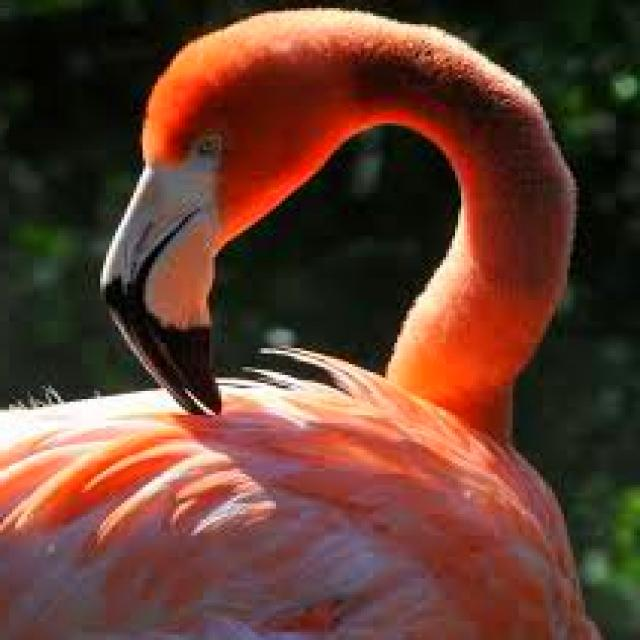flamingo: (3, 8, 601, 637)
